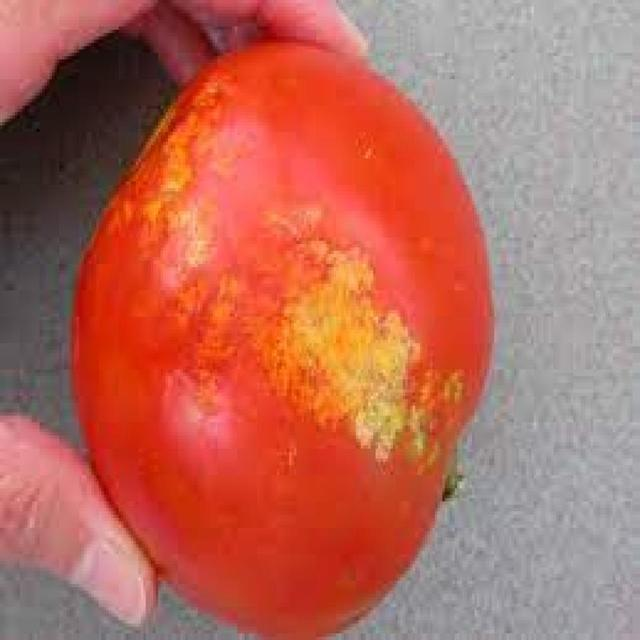Spotted wilt Virus Fruit: (26, 59, 73, 332)
